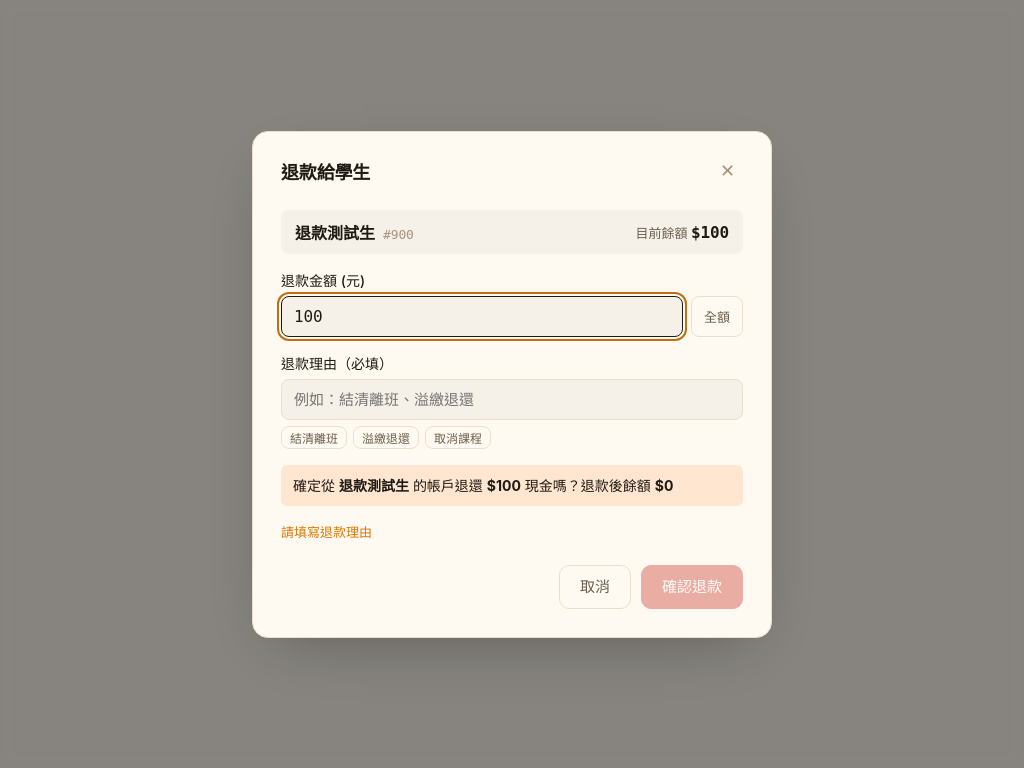
Scenario: U4 退款對話框失敗時留在畫面顯示原因 › 寫入失敗時對話框保留並顯示 store 回傳的原因
The width and height of the screenshot is (1024, 768).
Click the button "結清離班". click: {"x": 314, "y": 437}
box: [281,426,347,448]
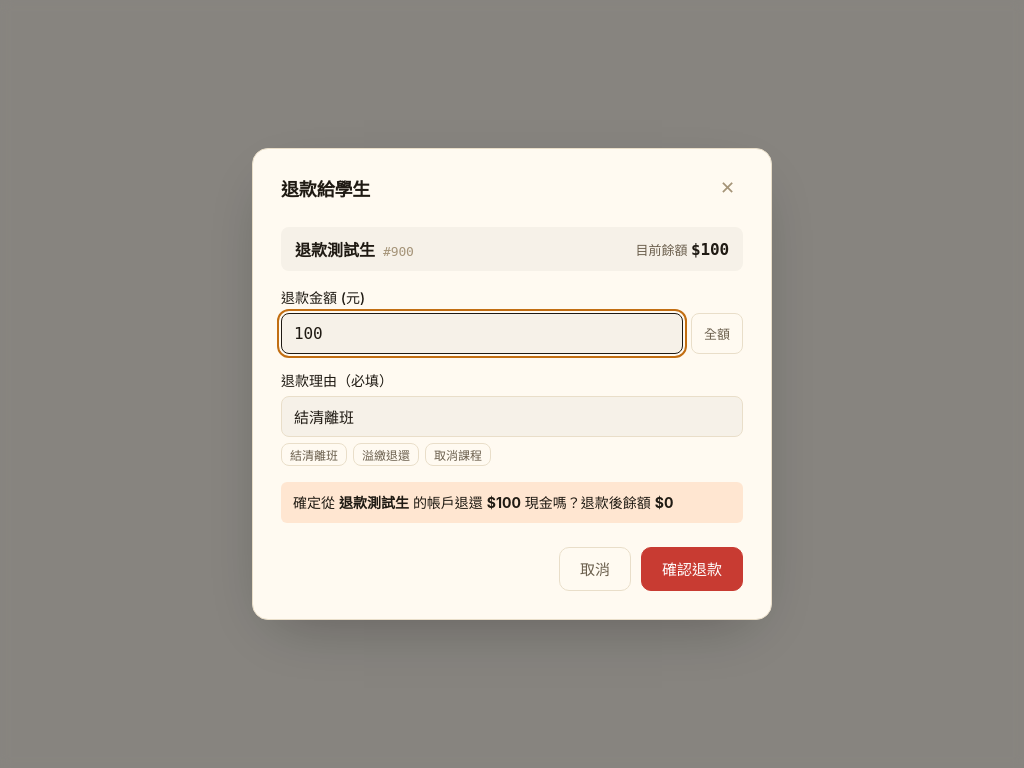
Click the button "確認退款". click: {"x": 692, "y": 569}
box: [641,547,743,591]
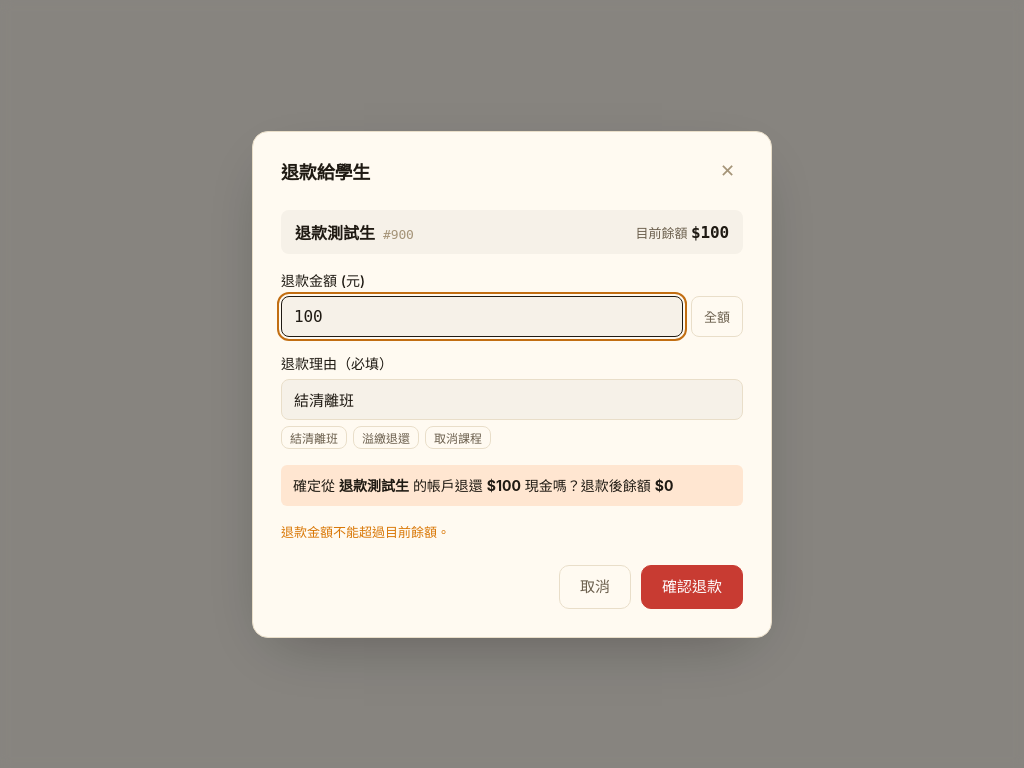
Expected: the dialog "退款給學生" is shown, [252,130,772,638]
Expected: the message reads "退款金額不能超過目前餘額。", [281,524,450,540]
